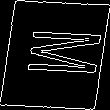M_E: (9, 29, 101, 81)
